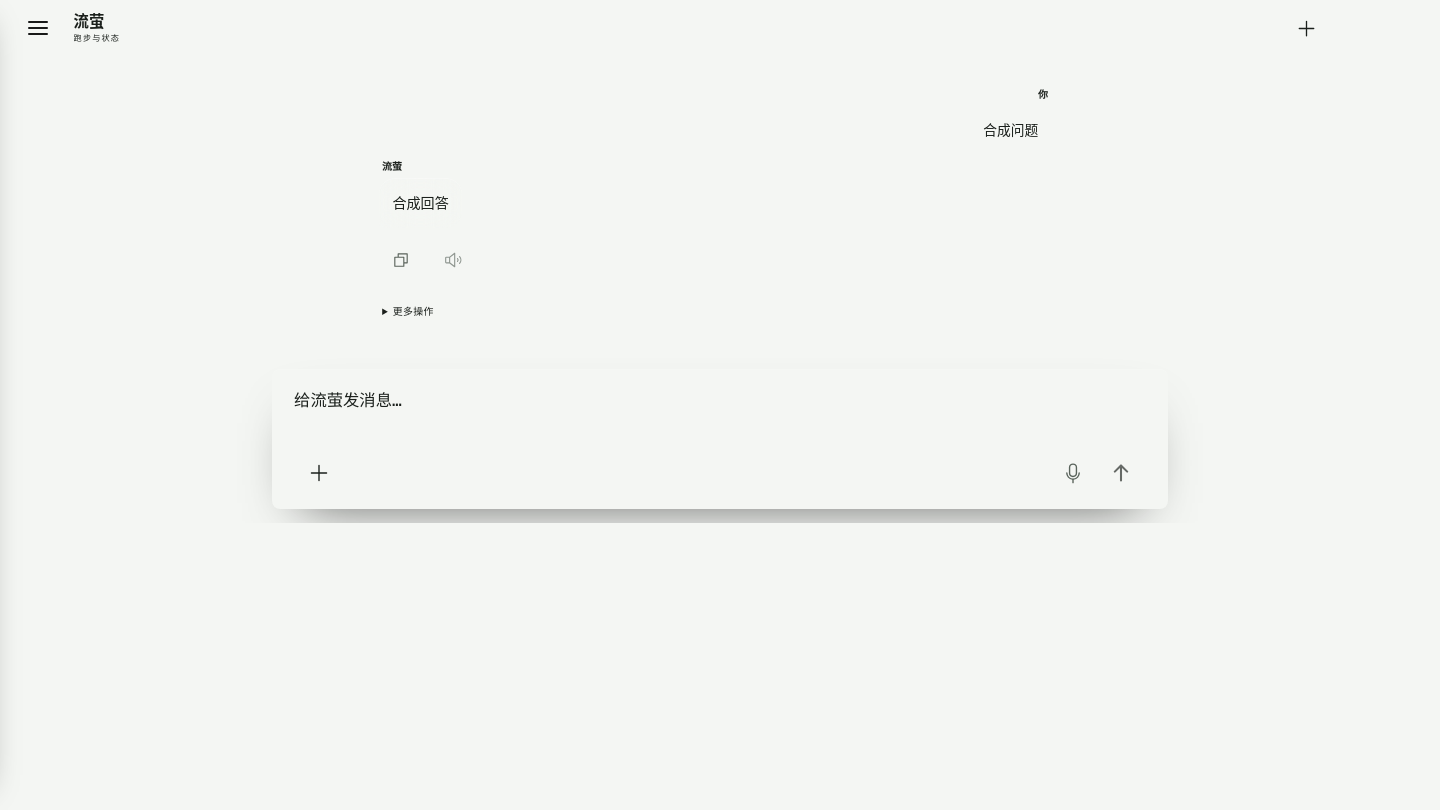
Test case: 原生拒绝删除时保留确认和正文，错误只在管理区域显示
Expected: the text "合成回答" is shown, left=392, top=190, right=449, bottom=216
What coordinates should you click on to do the following:
click the button named "打开侧边栏"
I would click on:
 (38, 28)
Its box is left=16, top=6, right=60, bottom=50.
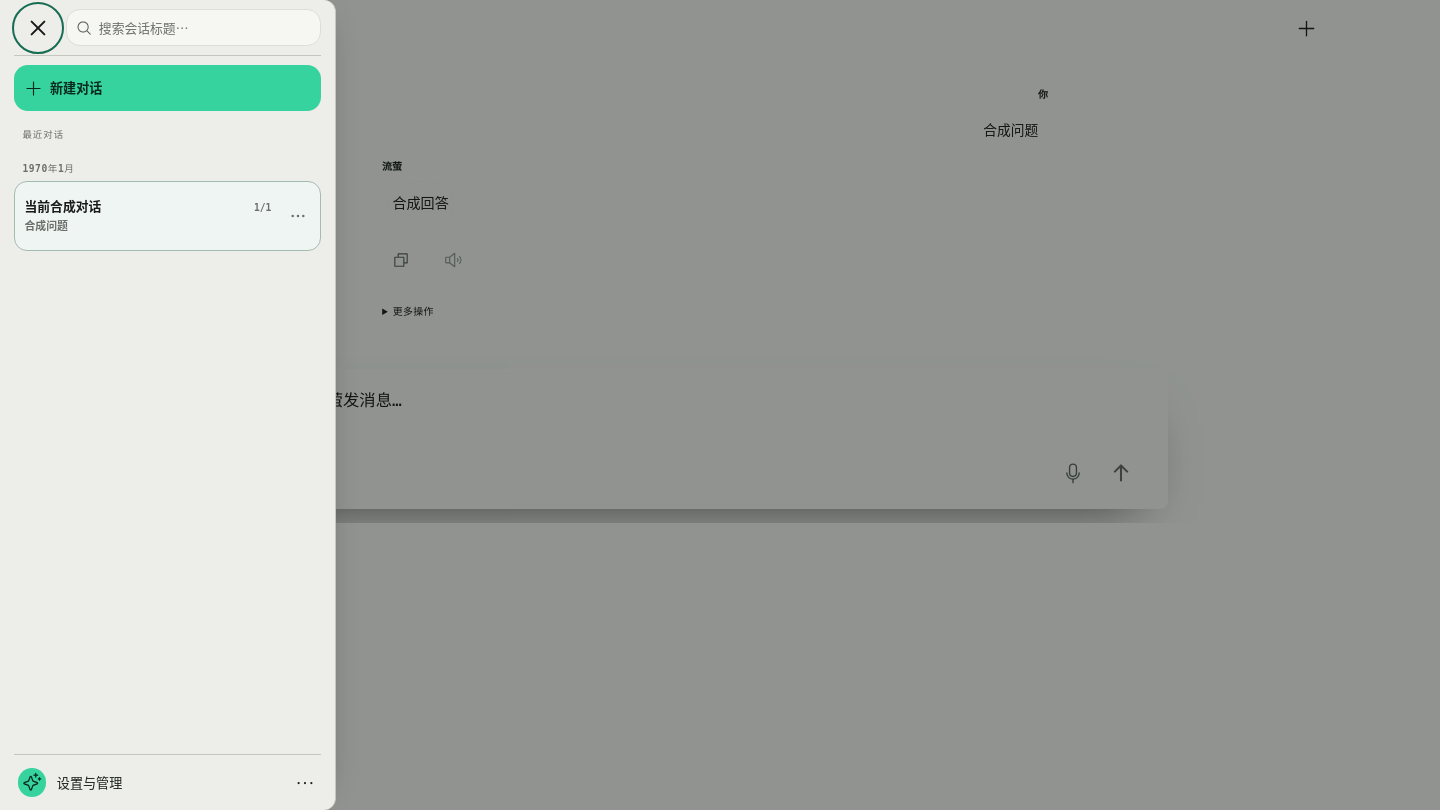
What coordinates should you click on to do the following:
click the button named "管理对话：当前合成对话"
I would click on:
 (298, 216)
Its box is left=276, top=194, right=320, bottom=238.
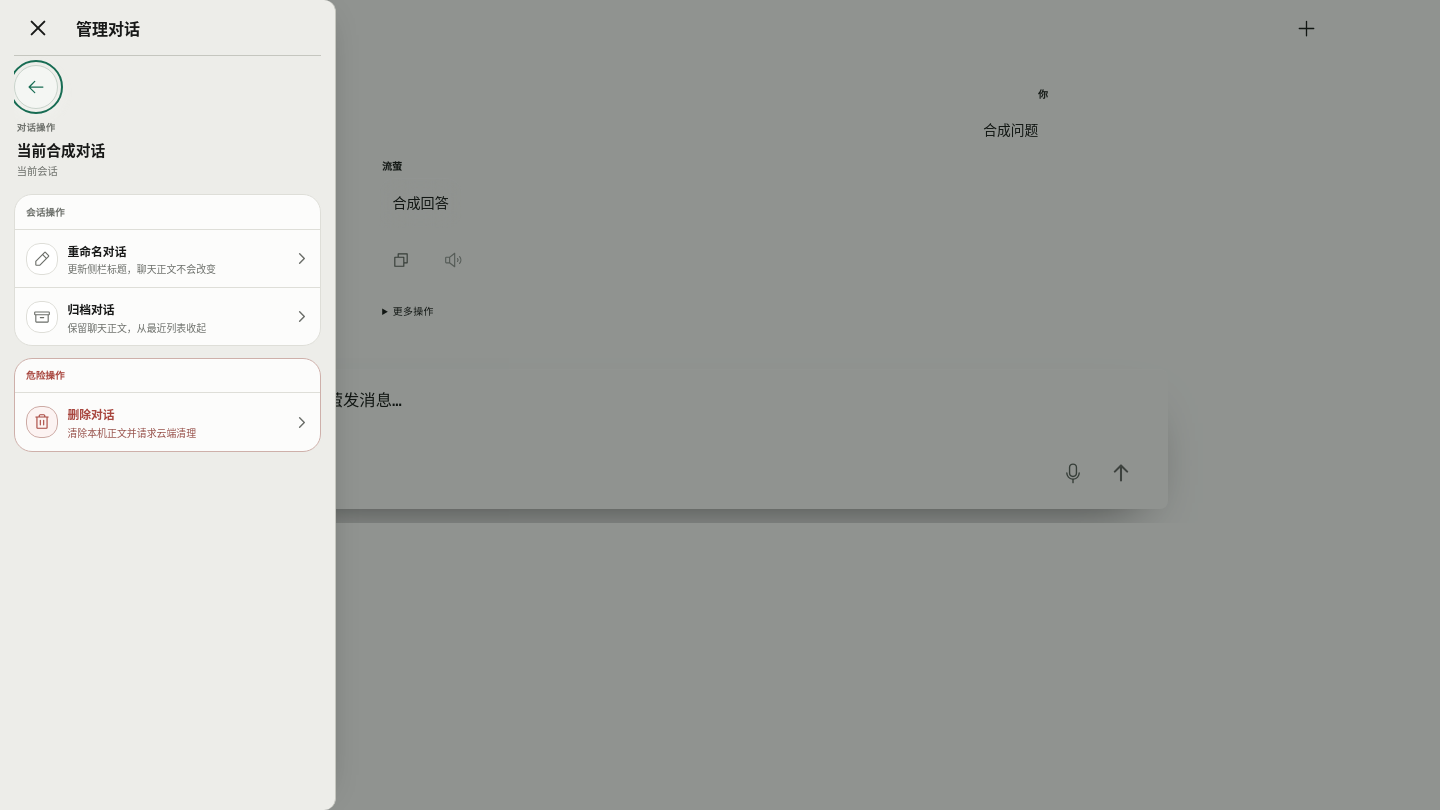
What coordinates should you click on to do the following:
click the button "删除对话 清除本机正文并请求云端清理"
I would click on:
 (168, 422)
Its box is left=15, top=393, right=320, bottom=451.
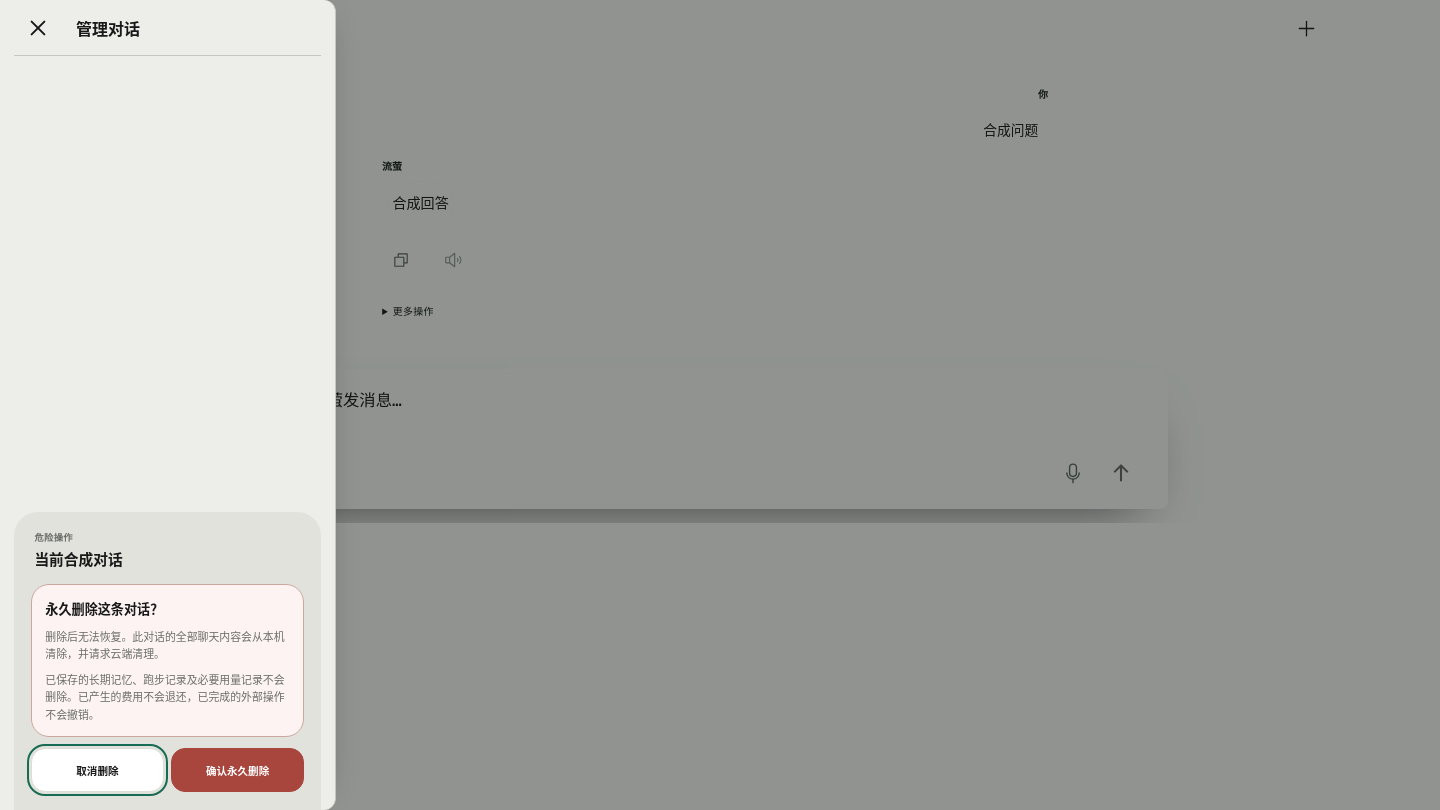
What coordinates should you click on to do the following:
click the button "确认永久删除"
I would click on:
 (238, 770)
Its box is left=171, top=748, right=304, bottom=792.
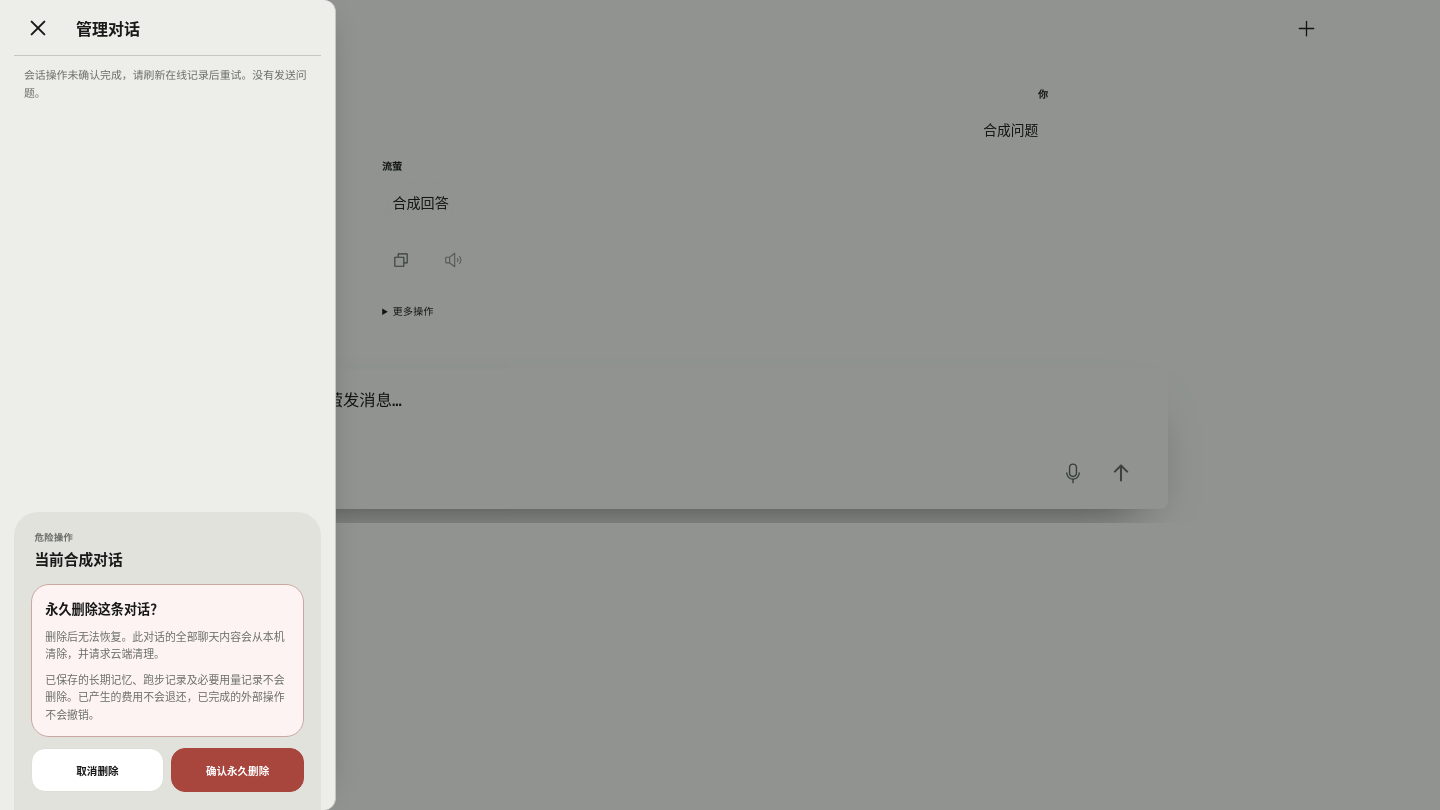
Now the button "确认永久删除" is enabled, box left=171, top=748, right=304, bottom=792
Now the message shows "会话操作未确认完成", box left=24, top=69, right=307, bottom=100
What coordinates should you click on to do the following:
click the button "取消删除"
I would click on:
 (97, 770)
Its box is left=31, top=748, right=164, bottom=792.
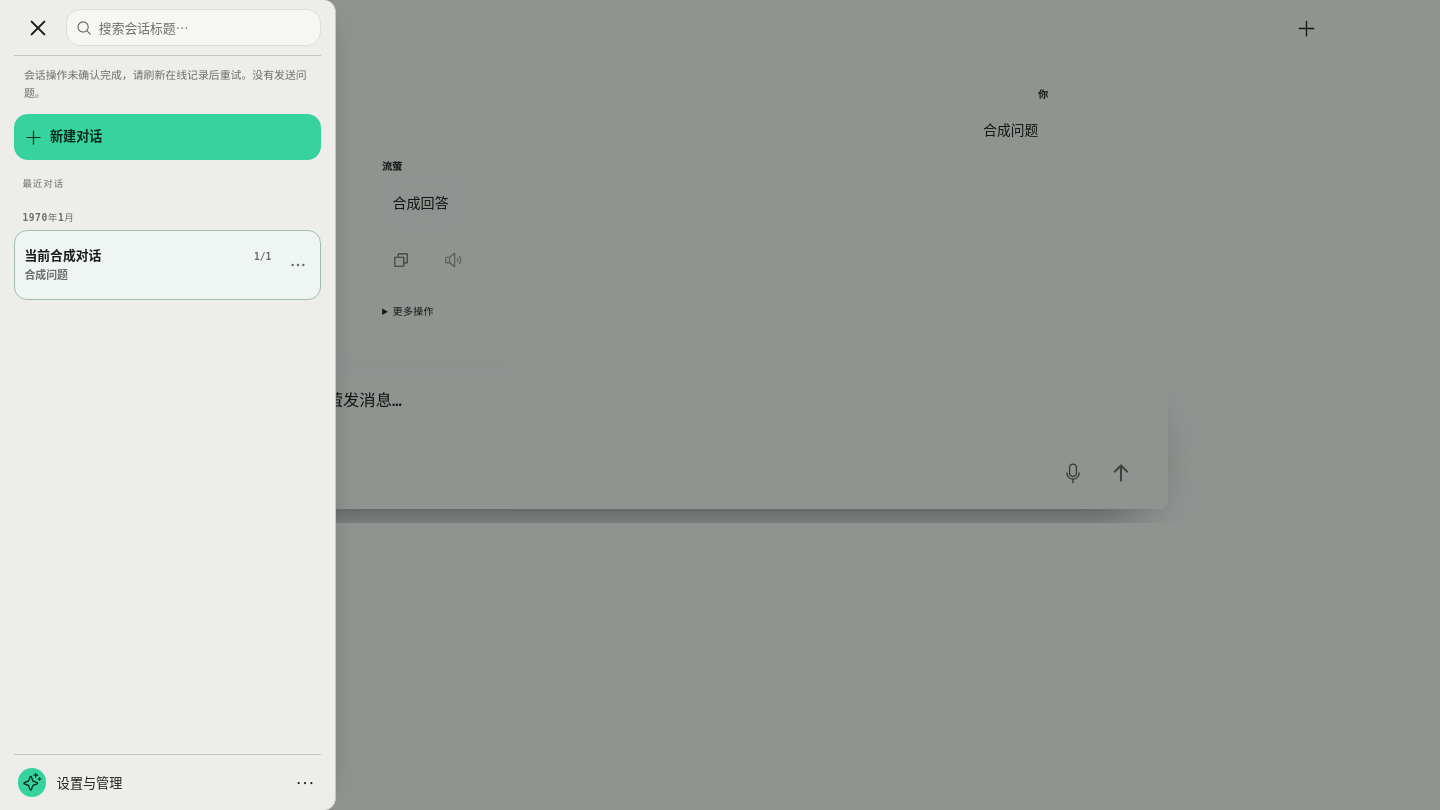
What coordinates should you click on to do the following:
click the button named "关闭侧边栏"
I would click on:
 (38, 28)
Its box is left=16, top=6, right=60, bottom=50.
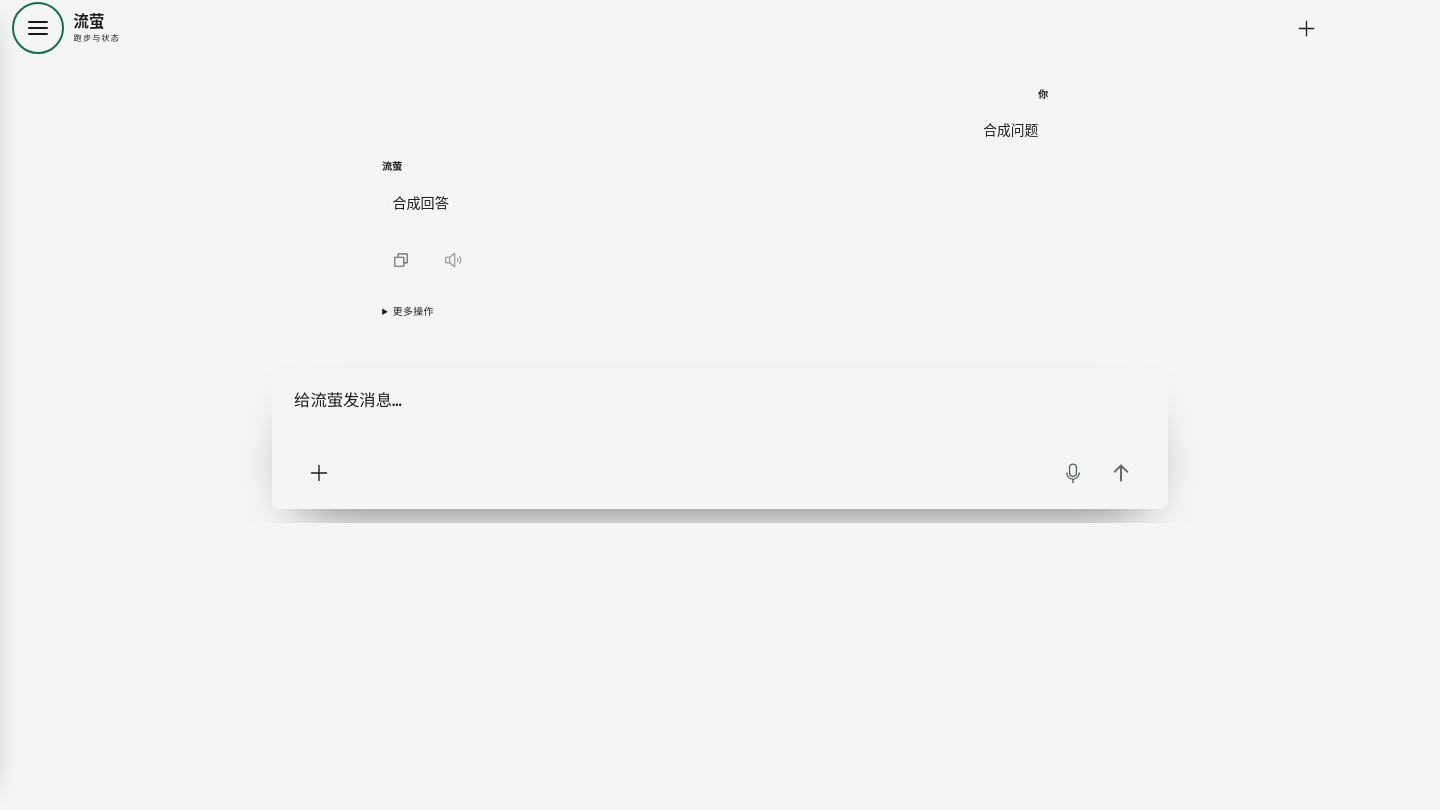
Expected: the text "合成回答" is shown, left=392, top=190, right=449, bottom=216
Now the message "会话操作未确认完成，请刷新在线记录后重试。没有发送问题。" is gone
